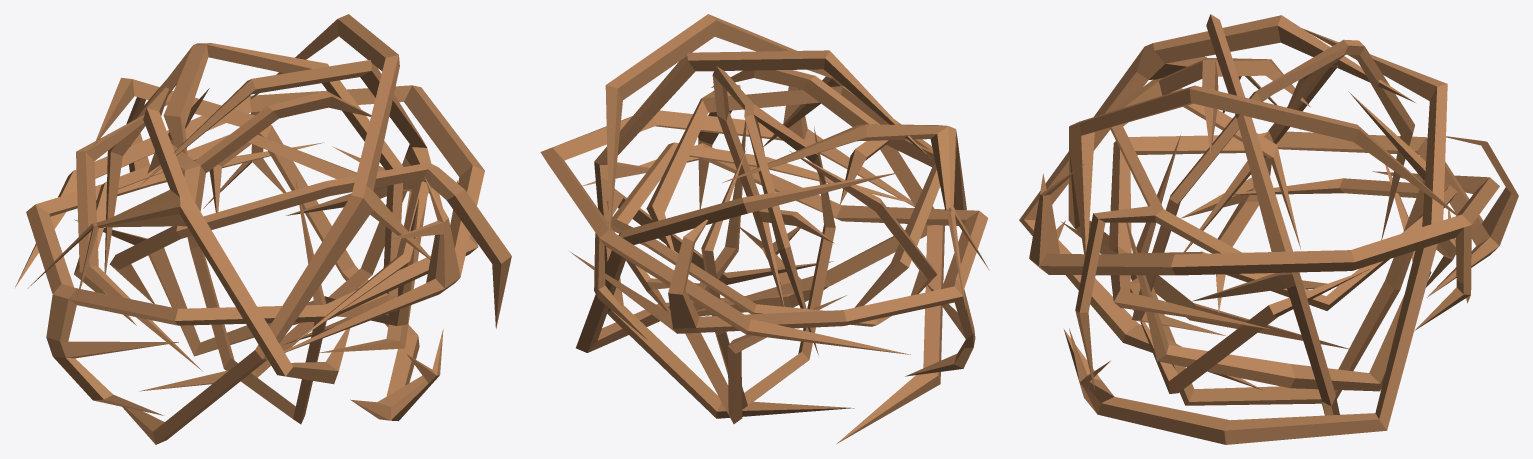
File: Tumbleweed_2.fbx
3 views of the same model, side by side, from view 1: azimuth 30°, elevation 25°; view 2: azimuth 150°, elevation 25°; view 3: azimuth 270°, elevation 25° (orthographic). The views are drawn at different scales.
Visible parts, largest first — view 1: Tumbleweed_2; view 2: Tumbleweed_2; view 3: Tumbleweed_2.
Part boxes in pixels (left/top/right/bottom): Tumbleweed_2: left=14, top=14, right=511, bottom=444; Tumbleweed_2: left=540, top=14, right=989, bottom=444; Tumbleweed_2: left=1019, top=14, right=1518, bottom=444.
Bounding box in the file's own units: 93.04 × 88.79 × 75.55.
